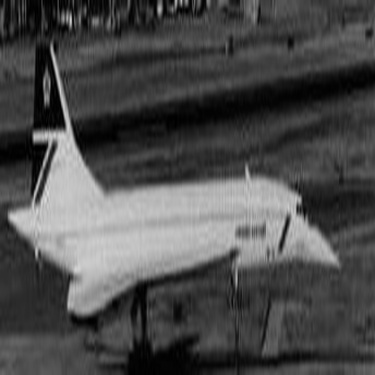airplane: (15, 15, 361, 337)
